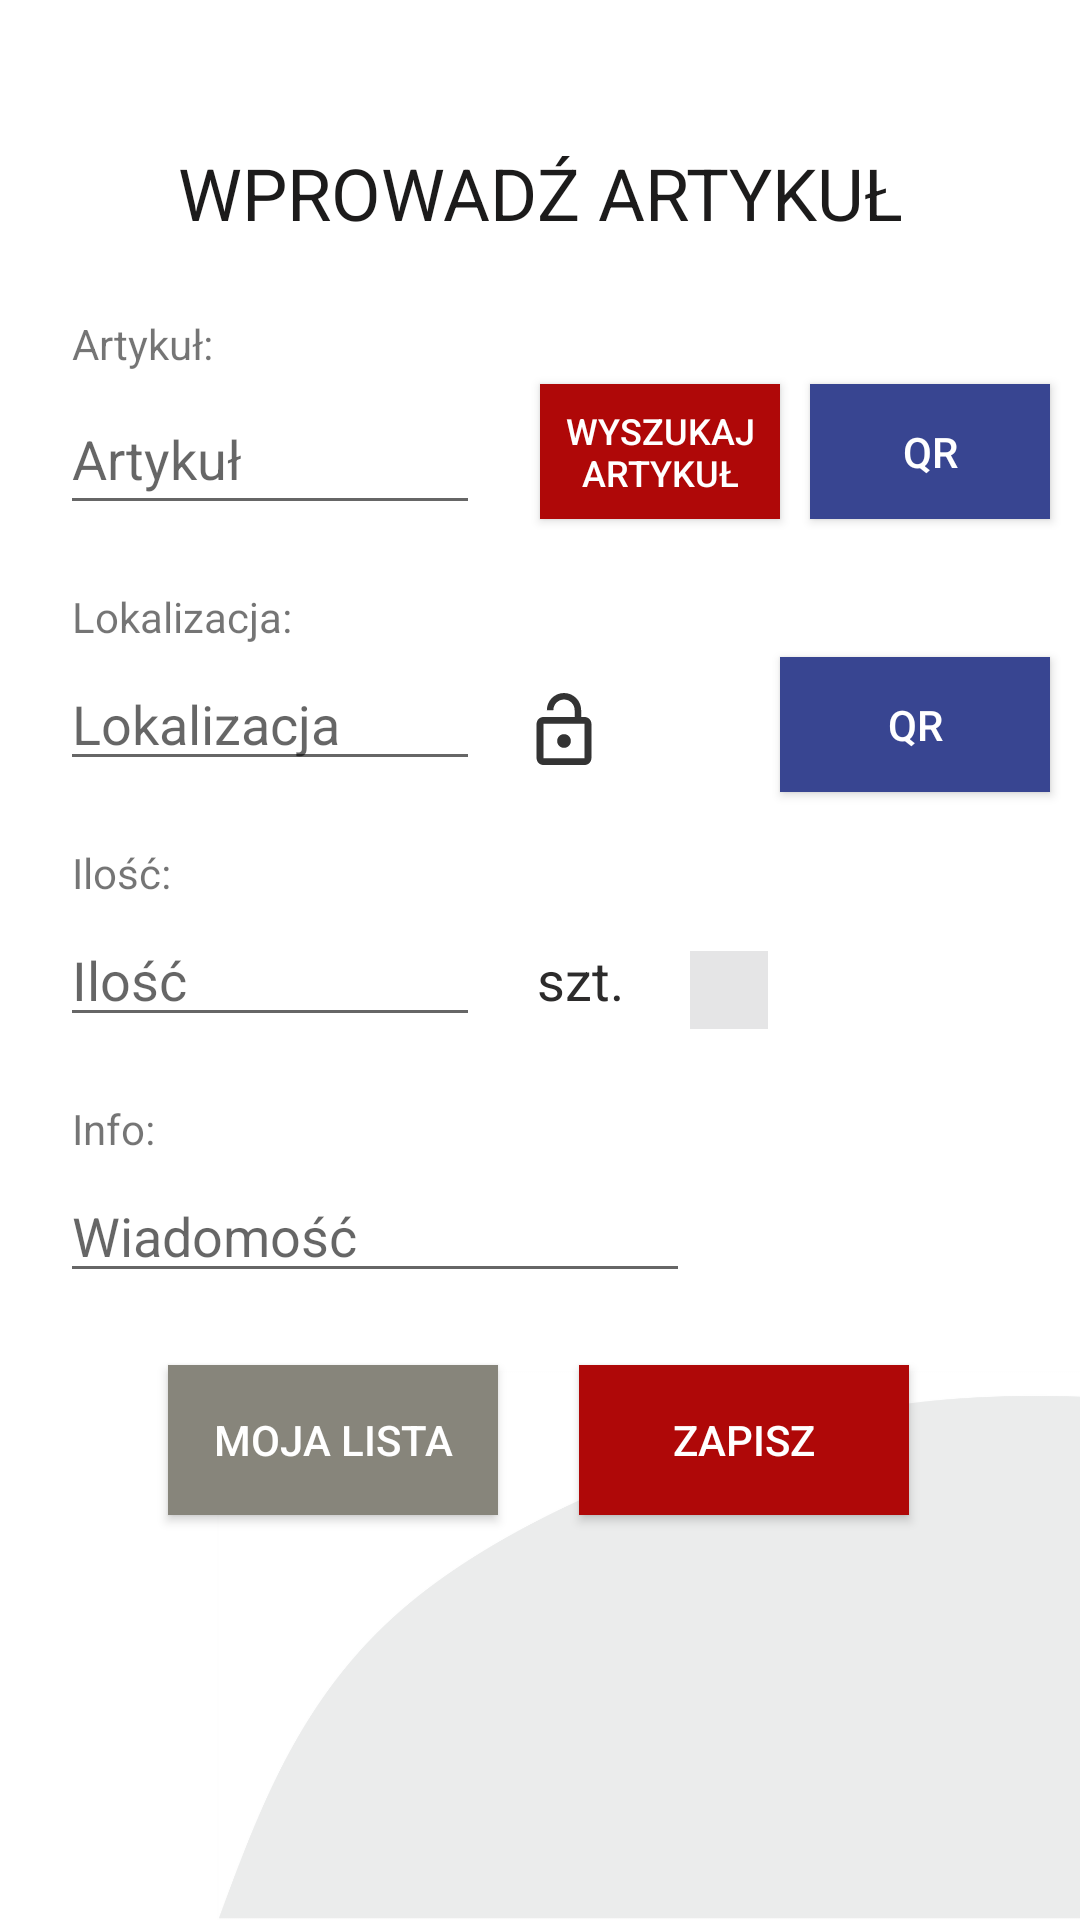

Where icons sit on this 1080w x 1920h app screen, as (x1, y1, x2, y2):
lock: (536, 693, 592, 765)
